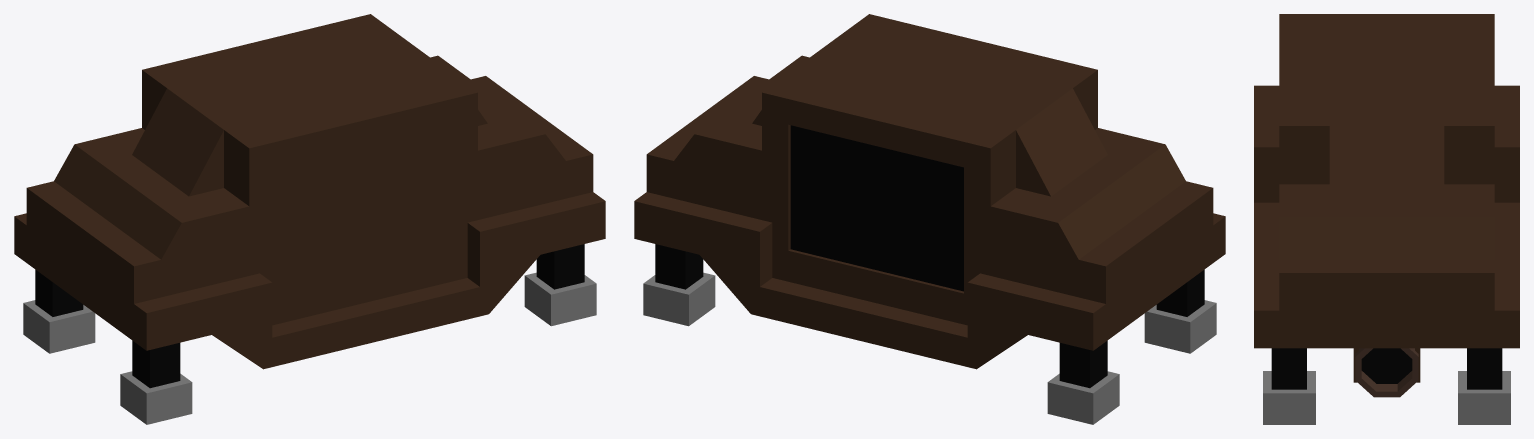
File: WeaponStation.fbx
3 renders of one model, left to right at view 1: azimuth 30°, elevation 25°; view 2: azimuth 150°, elevation 25°; view 3: azimuth 270°, elevation 25°, orthographic.
Parts seen in each view (by area): view 1: Cube.106; view 2: Cube.106; view 3: Cube.106, Cylinder.070.
Boxes of the visible parts, box(x1,y1,x2,y2) form: Cube.106: box(14, 14, 605, 424); Cube.106: box(634, 14, 1225, 424); Cube.106: box(1254, 14, 1519, 424); Cylinder.070: box(1355, 348, 1418, 397).
Bounding box in the file's own units: 310 × 157 × 155.
